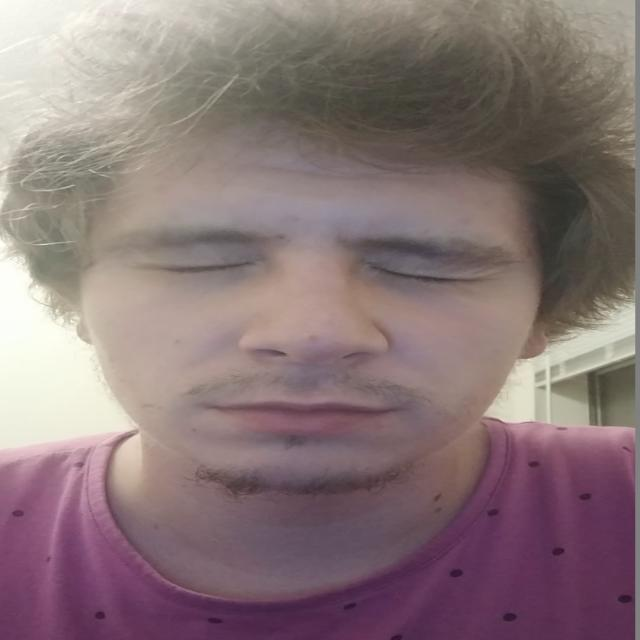Eyeclosed: (368, 259, 492, 299), (149, 250, 255, 287)
